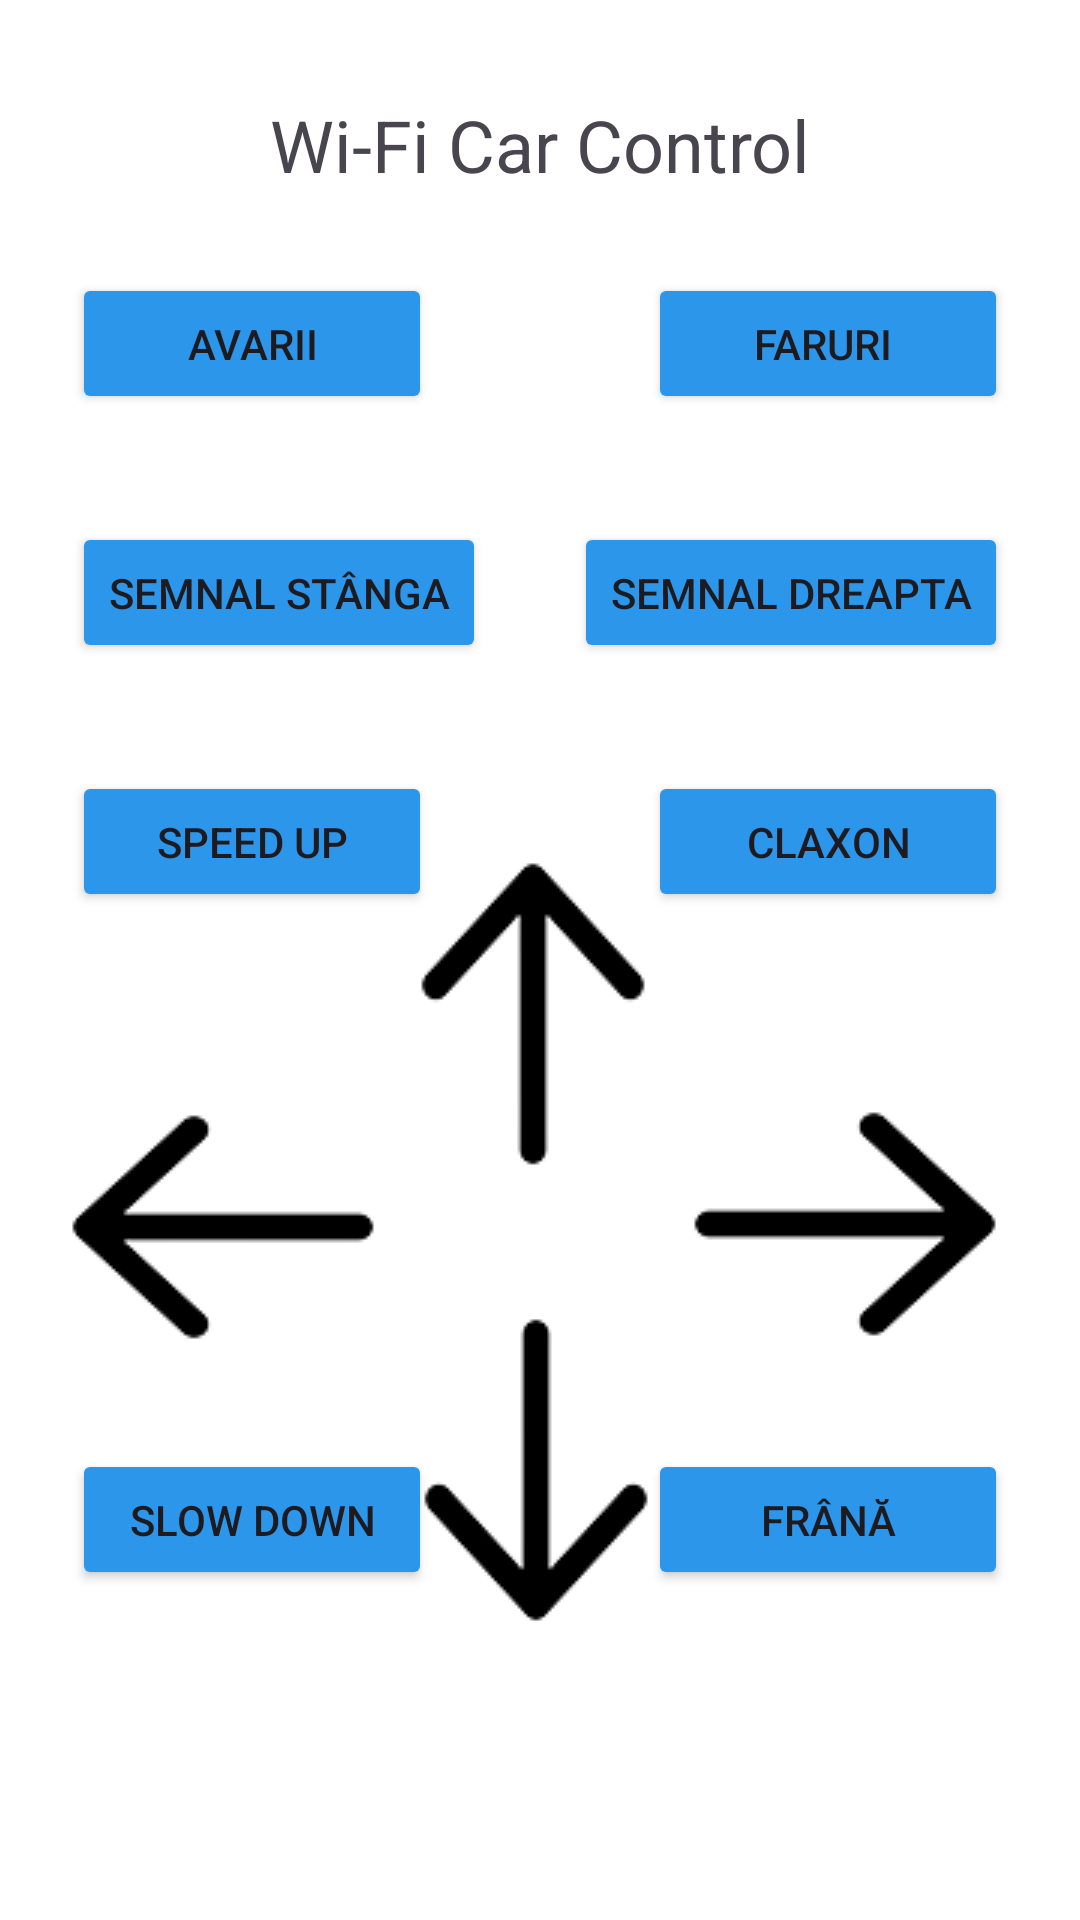

Named icons in this screenshot (1080*1920) and their bounding boxes, (x1, y1, x2, y2):
left: (72, 1115, 374, 1339)
right: (694, 1112, 996, 1336)
